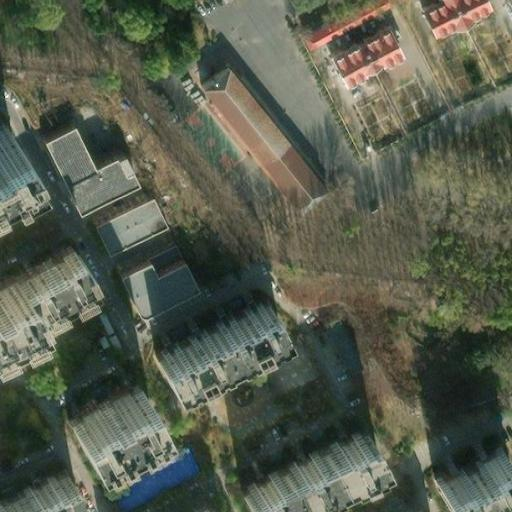building: (195, 68, 322, 211), (154, 299, 273, 380), (237, 429, 356, 510), (40, 129, 131, 217), (94, 444, 188, 506), (58, 376, 143, 442), (112, 245, 189, 317), (426, 438, 507, 503), (324, 28, 398, 90), (5, 233, 76, 290), (0, 467, 75, 512), (94, 201, 159, 251), (417, 0, 489, 39), (0, 264, 16, 304)
